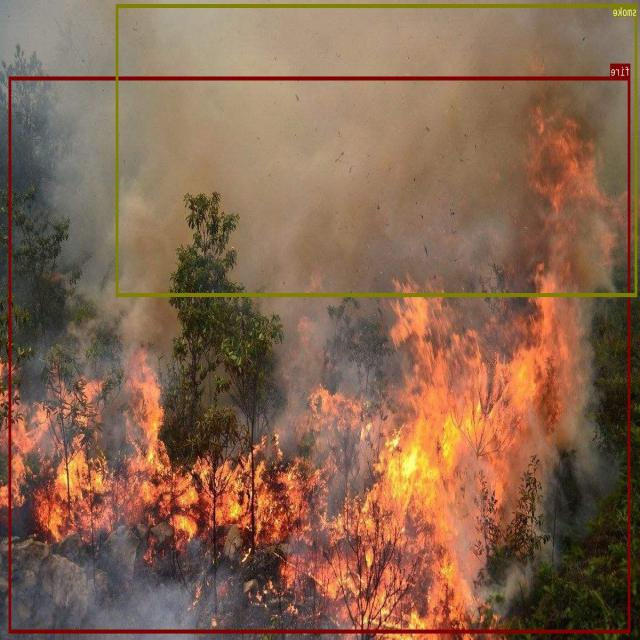fire: (9, 77, 631, 632)
smoke: (116, 4, 638, 296)
